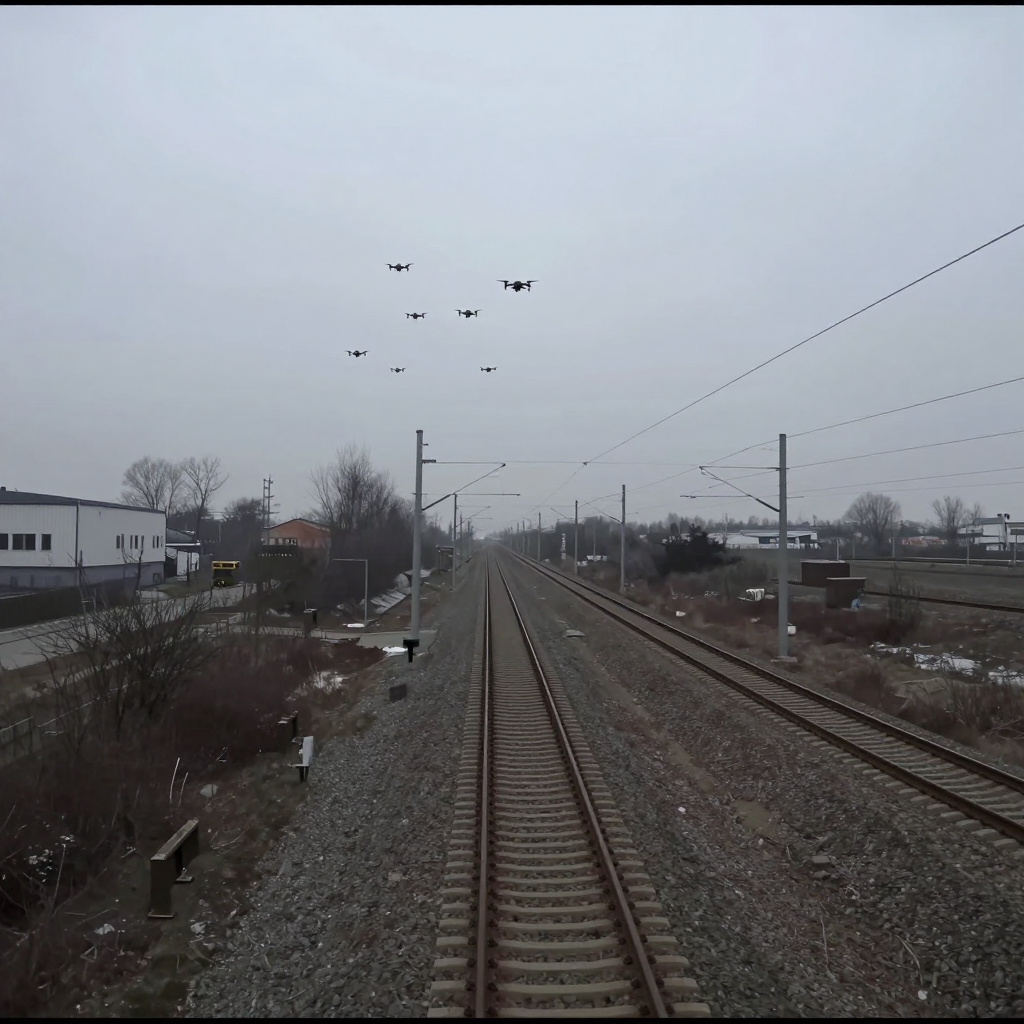drone: (496, 280, 539, 292), (384, 263, 415, 272), (455, 309, 483, 318), (343, 350, 369, 358), (496, 280, 512, 290), (409, 312, 428, 320), (480, 366, 497, 373), (389, 367, 406, 373), (409, 263, 415, 267)
